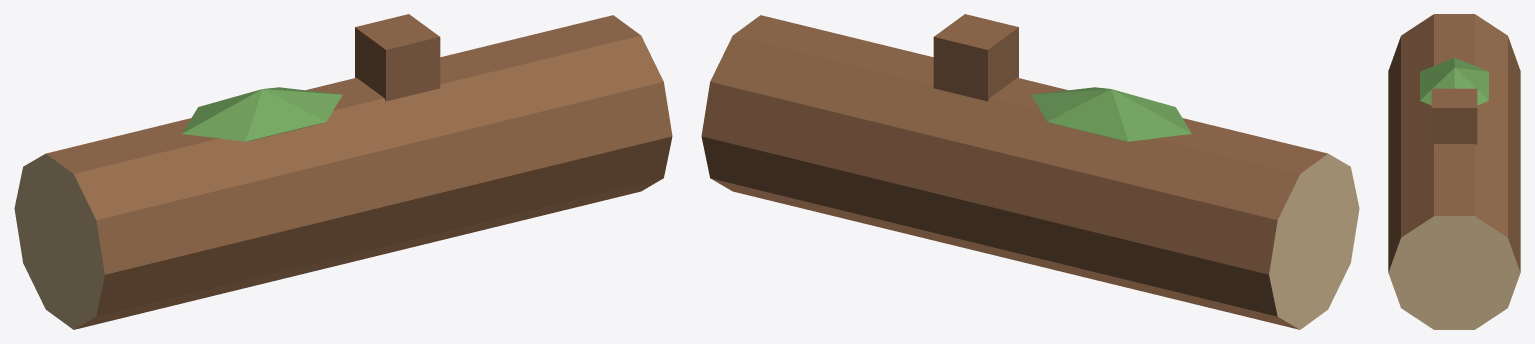
The model's file is deco_log.obj.
3 renders of one model, left to right at view 1: azimuth 30°, elevation 25°; view 2: azimuth 150°, elevation 25°; view 3: azimuth 270°, elevation 25°, orthographic. The views are drawn at different scales.
Parts seen in each view (by area): view 1: deco_log; view 2: deco_log; view 3: deco_log.
Boxes of the visible parts, left/top/right/bottom form: deco_log: left=14, top=14, right=672, bottom=329; deco_log: left=701, top=14, right=1359, bottom=329; deco_log: left=1388, top=14, right=1520, bottom=329.
Size of the model in its own units: 0.042 by 0.0145 by 0.0116.
Materials: 1 (1 with a texture image).
